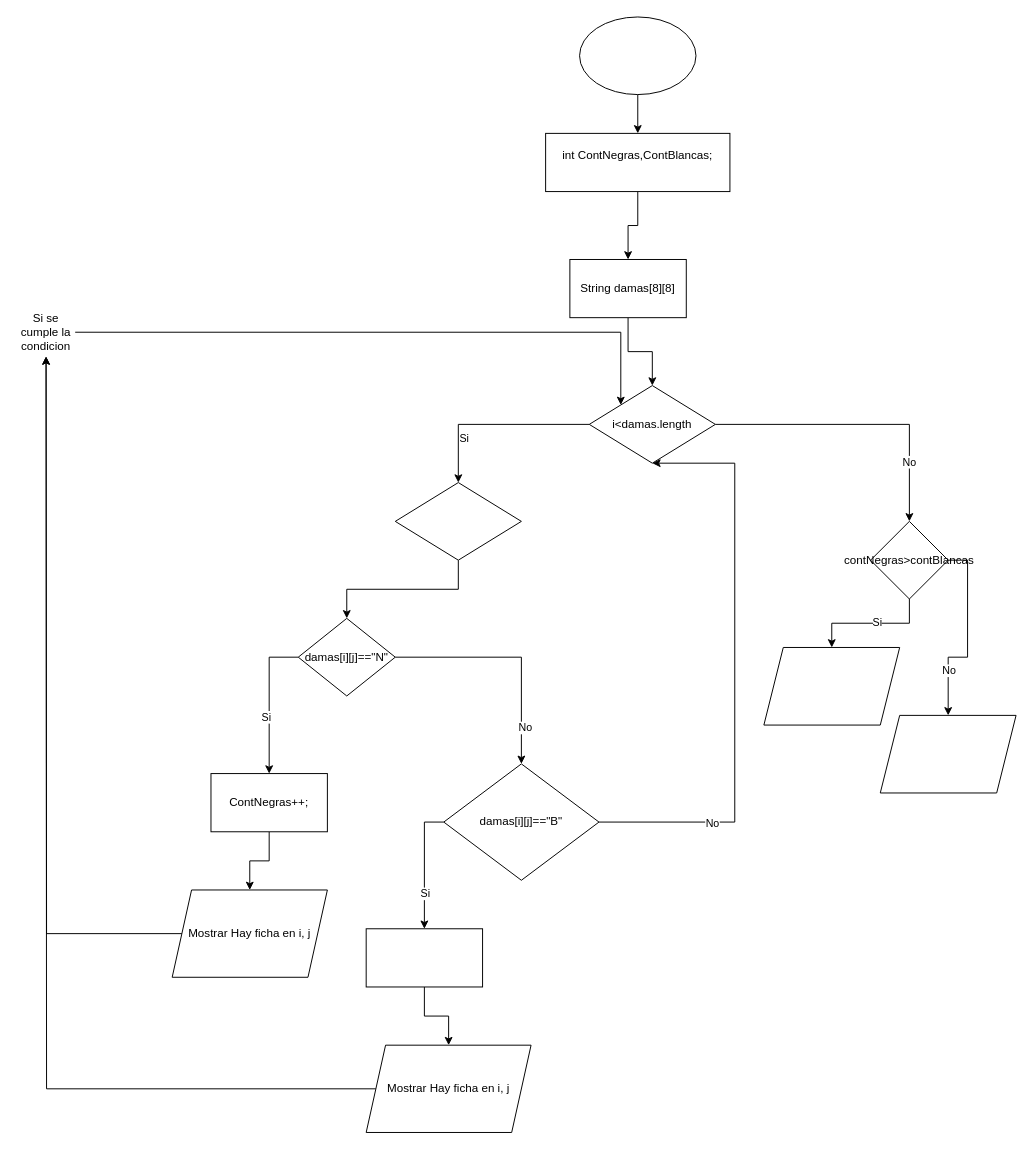
Some shapes in this 1033 by 1149 pixel diagram are drawn without their labels. Here are the shapes that lost their labels. From the top down, the centre of each, then its label:
At point 637,55: "Inicio".
At point 457,521: "j<damas[j].lenght".
At point 831,686: "Mostrar van ganando las negras".
At point 947,753: "Mostrar van ganando las blancas".
At point 424,957: "ContBlancas++;".
